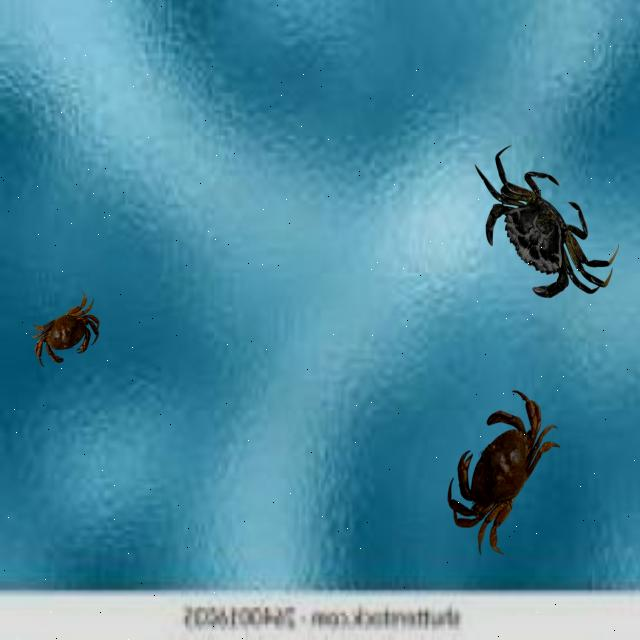European_Green_Crab: (449, 122, 628, 336)
